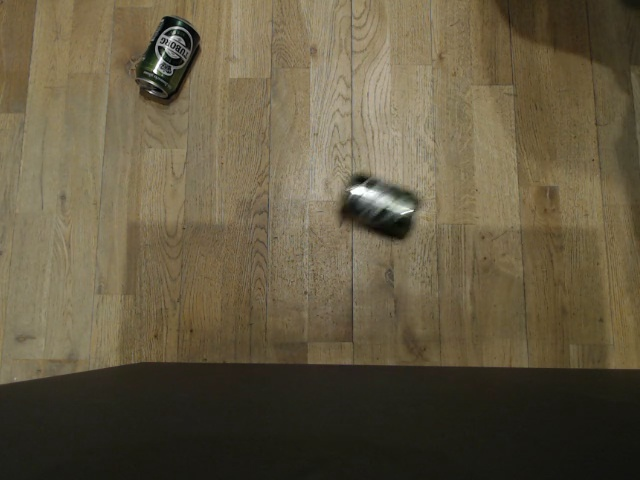beer: (132, 13, 202, 100), (340, 172, 420, 240)
